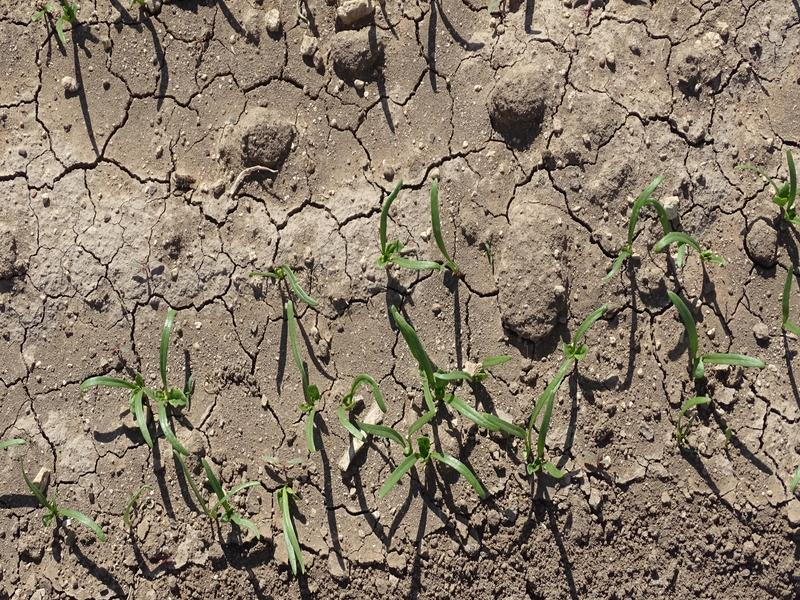Espinaca: (97, 313, 193, 459), (413, 375, 556, 451), (609, 172, 700, 276), (664, 291, 761, 378), (378, 180, 459, 275), (378, 453, 492, 503), (284, 304, 321, 453), (337, 375, 408, 446), (203, 459, 264, 537), (557, 308, 609, 371), (280, 486, 307, 575), (771, 149, 800, 226)
